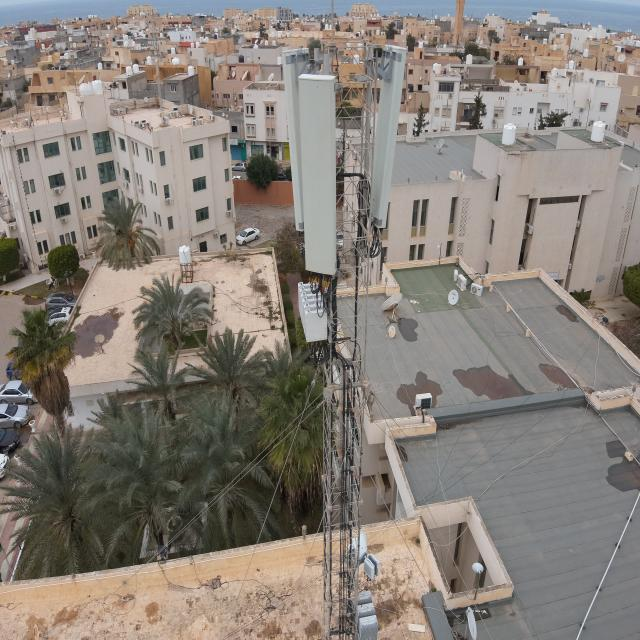antenna: (298, 72, 343, 280), (366, 41, 406, 235), (283, 44, 319, 230)
microware-dish: (342, 528, 382, 581)
power-box: (345, 585, 378, 640)
radio-unit: (294, 279, 336, 347)
